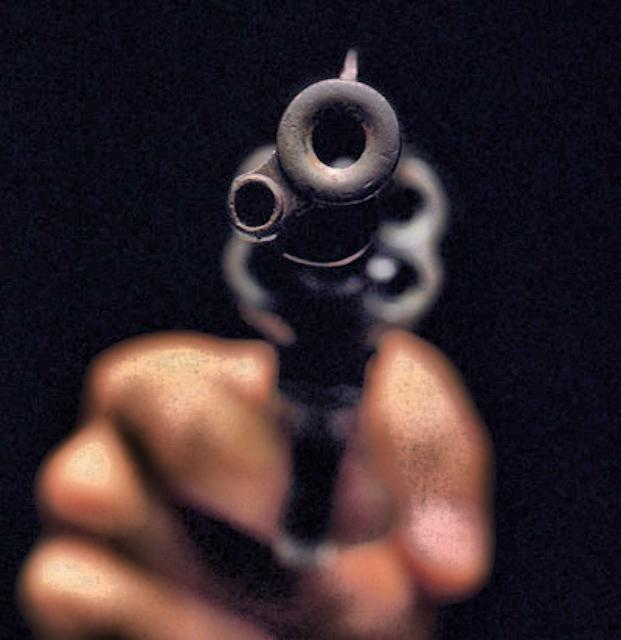pistol: (213, 46, 461, 548)
